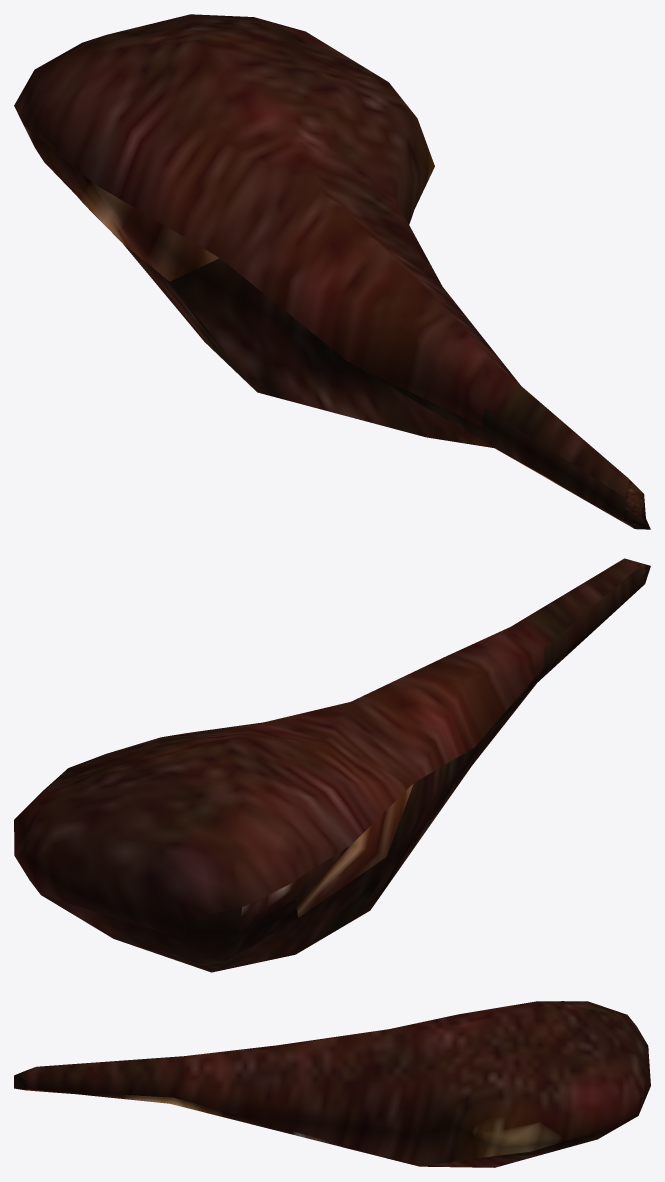
The model's file is ITFO_ROASTEDRATMEAT.glb.
The picture shows the model from 3 angles, top to bottom: view 1: azimuth 30°, elevation 25°; view 2: azimuth 150°, elevation 25°; view 3: azimuth 270°, elevation 25°; orthographic projection. The views are drawn at different scales.
Parts seen in each view (by area): view 1: Mesh; view 2: Mesh; view 3: Mesh.
Boxes of the visible parts, box(x1,y1,x2,y2) form: Mesh: box(14, 14, 650, 529); Mesh: box(14, 558, 650, 972); Mesh: box(14, 1001, 650, 1167).
Bounding box in the file's own units: 0.1584 × 0.1308 × 0.4685.
1 material, 1 textured.
